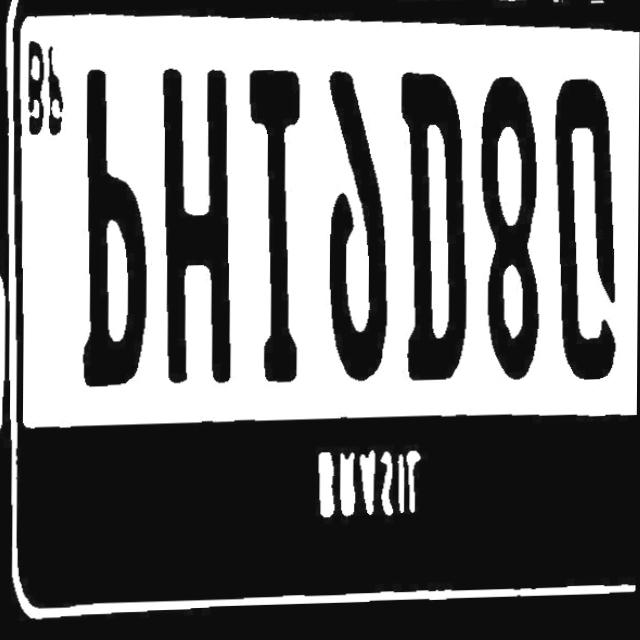0: (547, 72, 624, 394)
8: (476, 81, 546, 404)
9: (319, 52, 398, 389)
d: (392, 61, 470, 391)
h: (161, 36, 241, 385)
i: (246, 42, 312, 384)
p: (77, 44, 151, 390)
